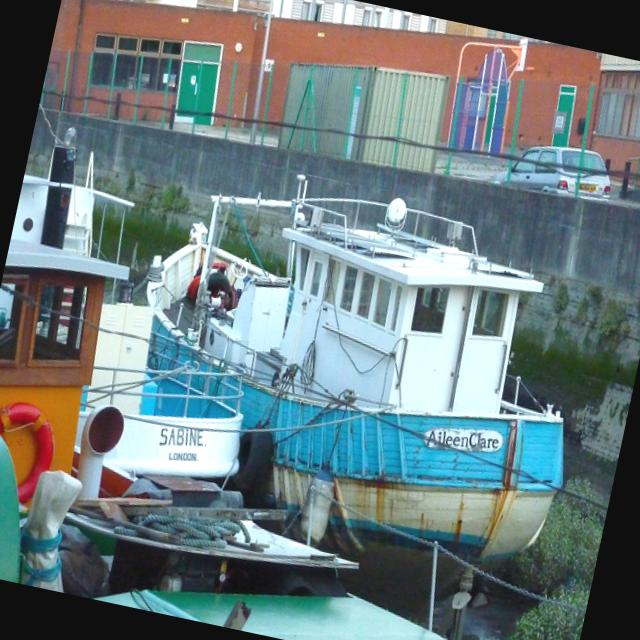Vehicle: (495, 138, 619, 203)
